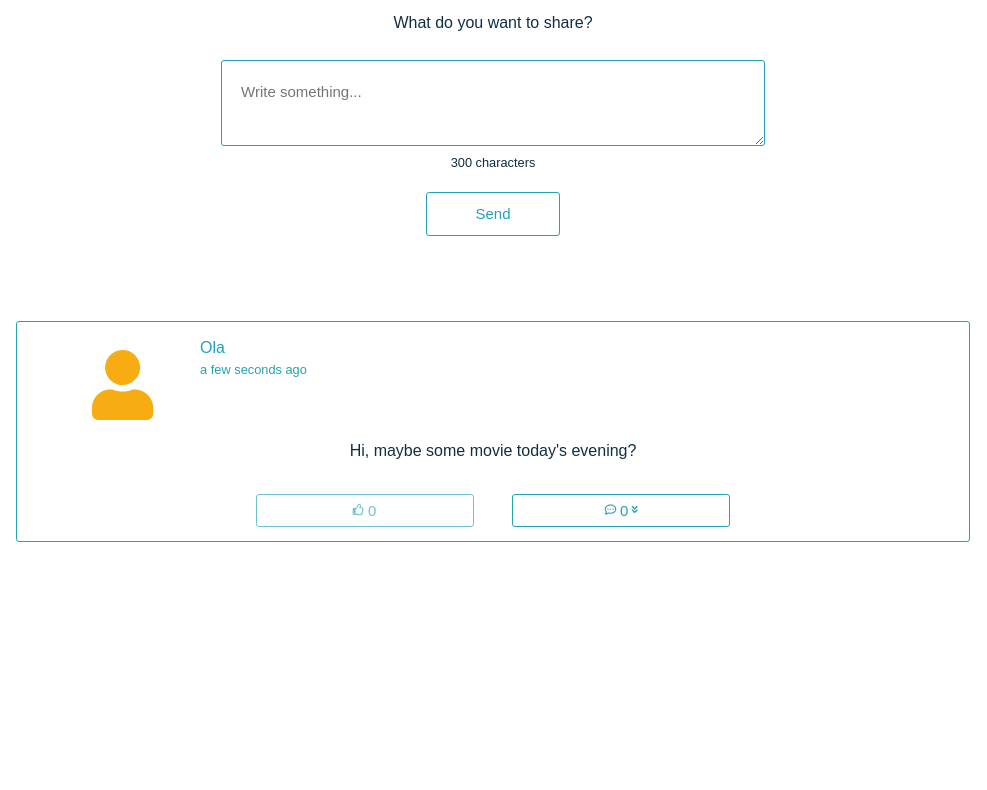
Scenario: StatusCreate component › the storeStatus method › sets new data to localStorage
Type "Test status" into the text box with placeholder "Write something..." at coordinates (493, 103), box [221, 60, 765, 146]
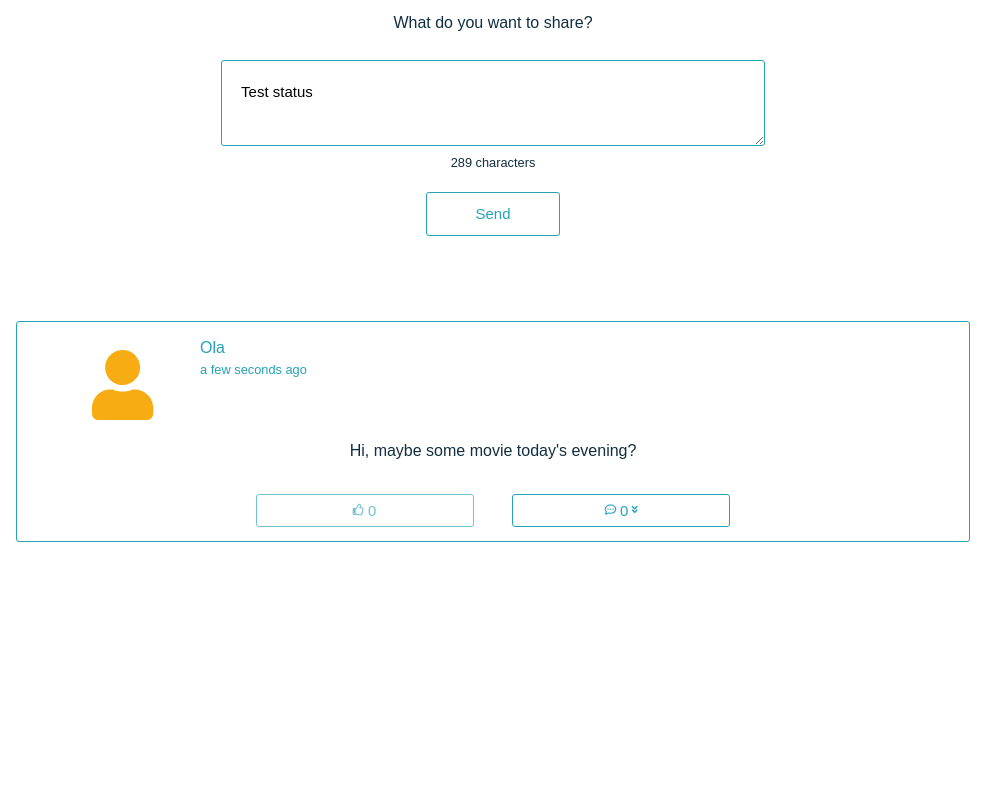
Click the button "Send" at coordinates (493, 214), box [426, 192, 560, 236]
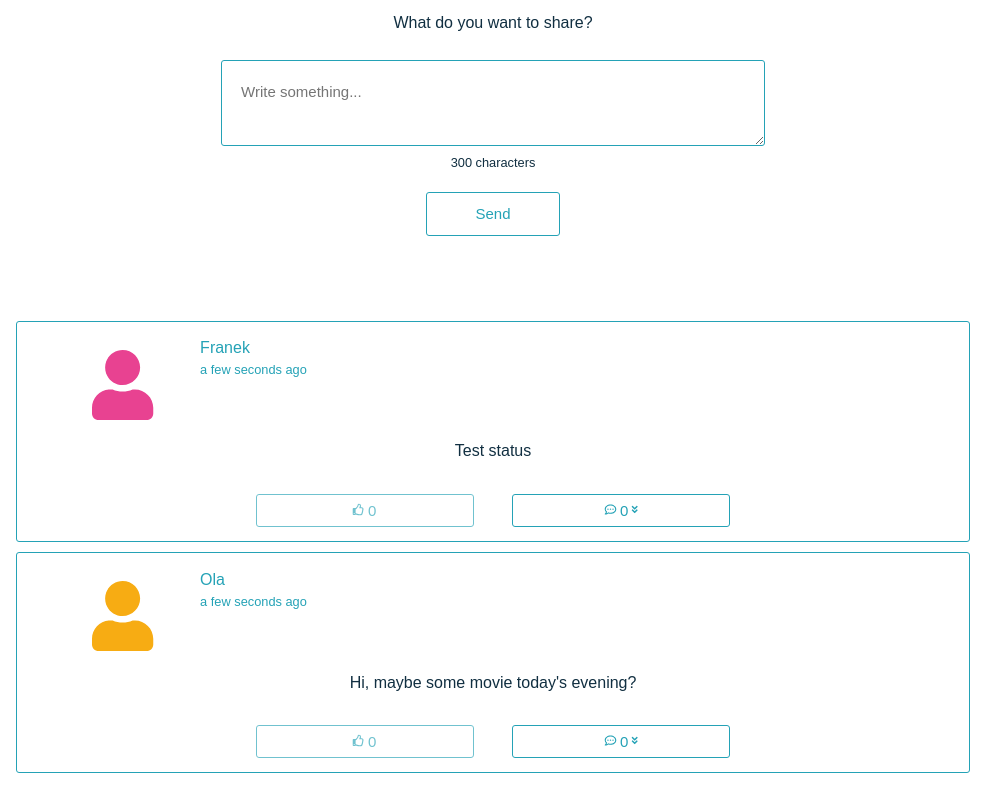
Check: the text "Franek" is shown, box [200, 339, 250, 356]
